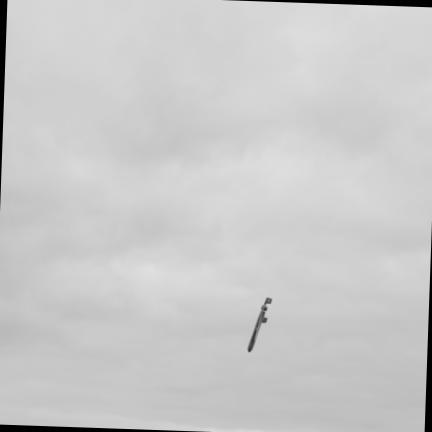Shahed: (249, 298, 271, 352)
